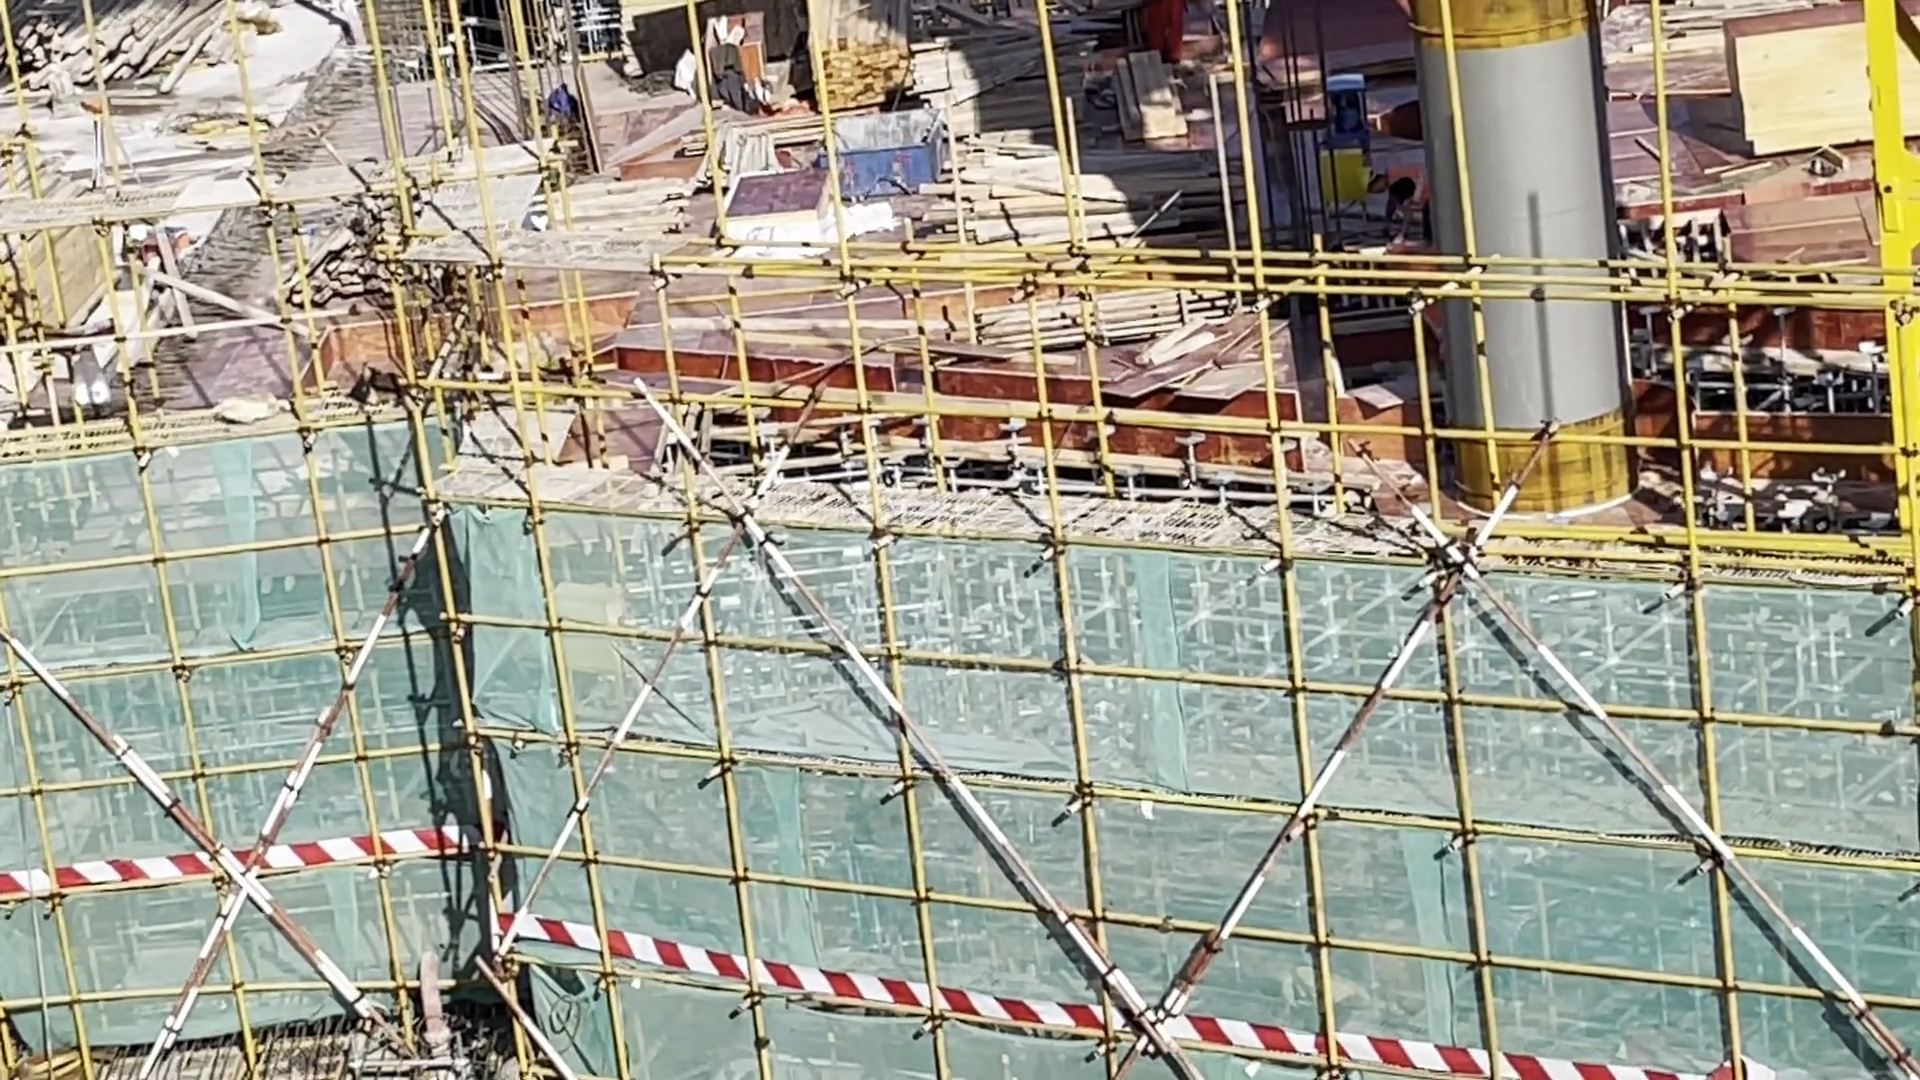helmet: (1356, 165, 1379, 195)
hopper: (815, 107, 951, 202)
person: (1354, 164, 1445, 247)
vest: (1386, 162, 1429, 203)
wood: (944, 286, 1262, 357), (44, 19, 233, 119)
